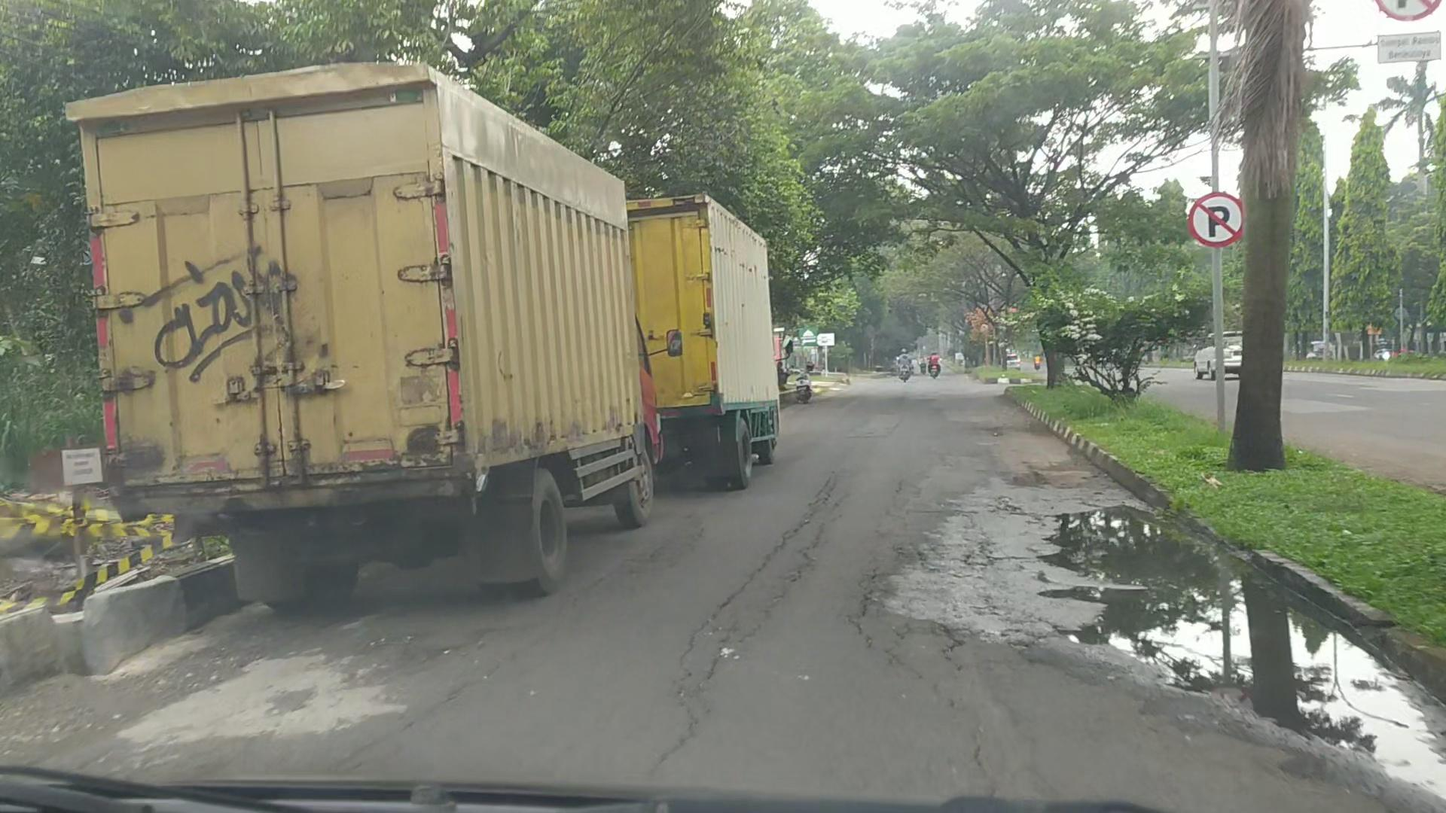pothole: (1041, 502, 1445, 797)
